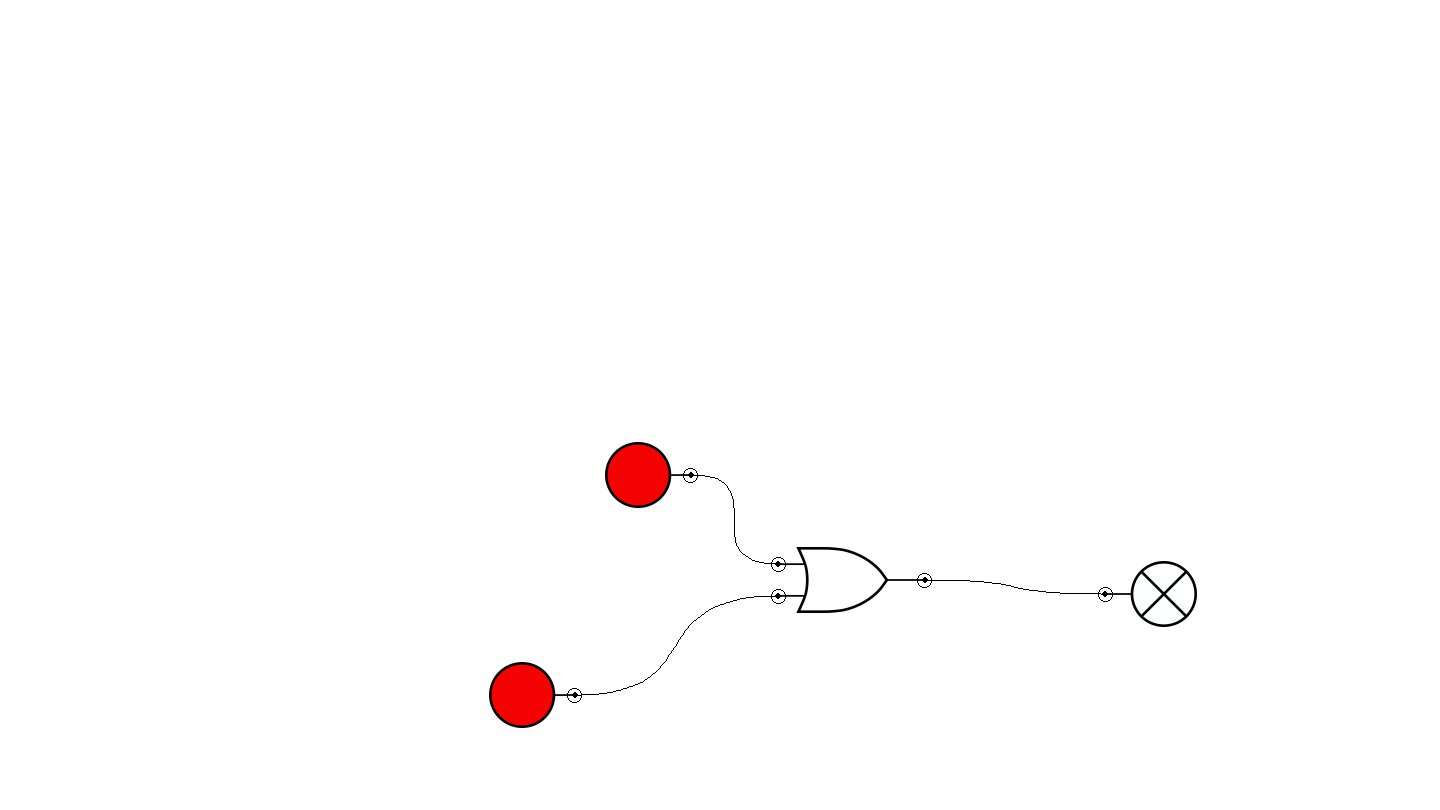bulb: (1098, 561, 1197, 627)
or: (771, 547, 932, 613)
switch_False: (489, 662, 582, 728), (605, 442, 698, 508)
